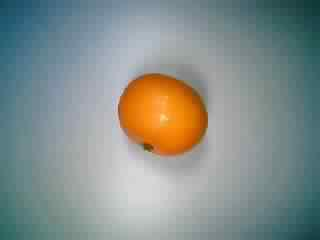orange: (111, 70, 211, 157)
